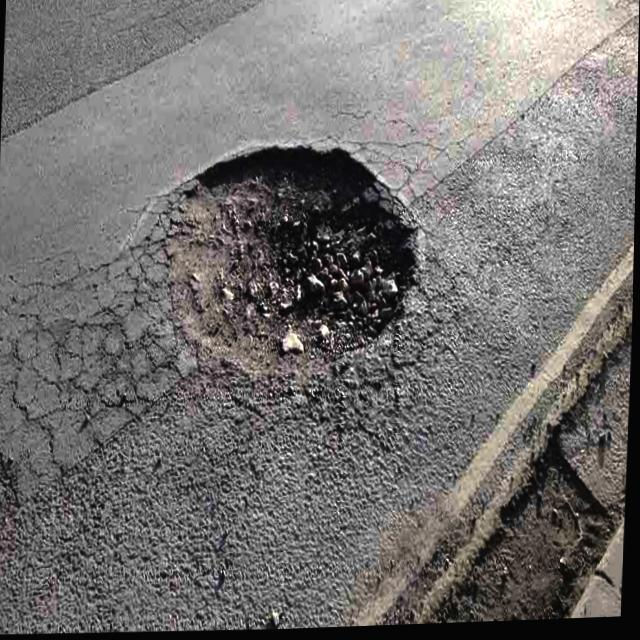Pothole: (424, 322, 634, 627), (163, 148, 419, 374)
